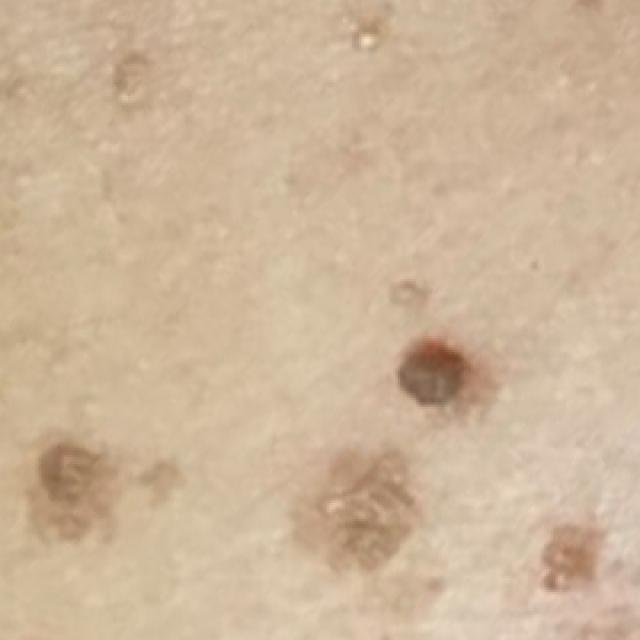wart: (21, 434, 156, 556), (298, 446, 430, 564), (384, 327, 496, 423), (528, 514, 612, 601), (348, 12, 400, 59)
